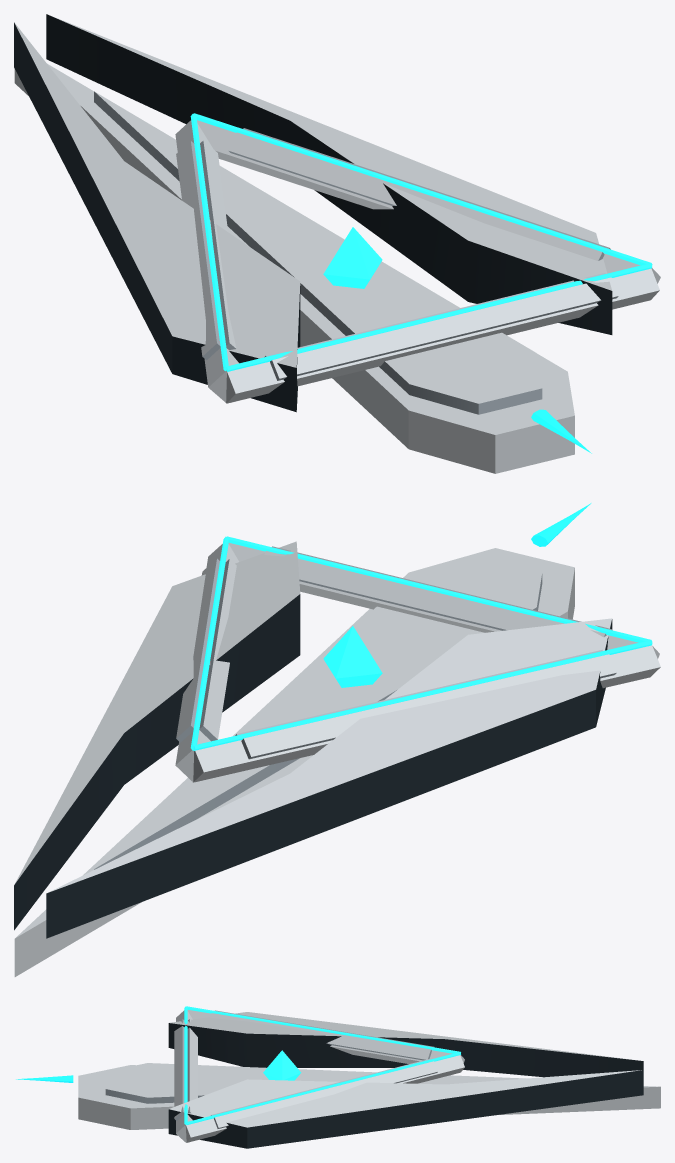
File: 08_forschung.glb
3 views of the same model, one above another, from view 1: azimuth 30°, elevation 25°; view 2: azimuth 150°, elevation 25°; view 3: azimuth 270°, elevation 25° (orthographic). The views are drawn at different scales.
Visible parts, largest first — view 1: Hull, sensor_array; view 2: Hull, sensor_array; view 3: Hull, sensor_array, FX_drive.
Boxes of the visible parts, x1,y1,x2,y2 form: Hull: (14, 14, 612, 473); sensor_array: (175, 113, 660, 403); Hull: (14, 541, 612, 976); sensor_array: (175, 536, 660, 782); Hull: (78, 1012, 660, 1148); sensor_array: (174, 1006, 464, 1142); FX_drive: (16, 1075, 73, 1082).
Bounding box in the file's own units: 4.27 × 0.939 × 9.44.
